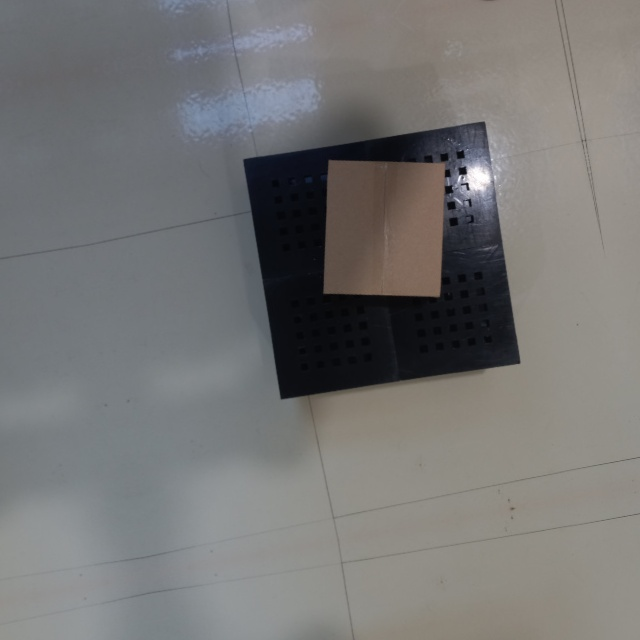box: (321, 155, 448, 303)
pallet: (239, 108, 524, 403)
